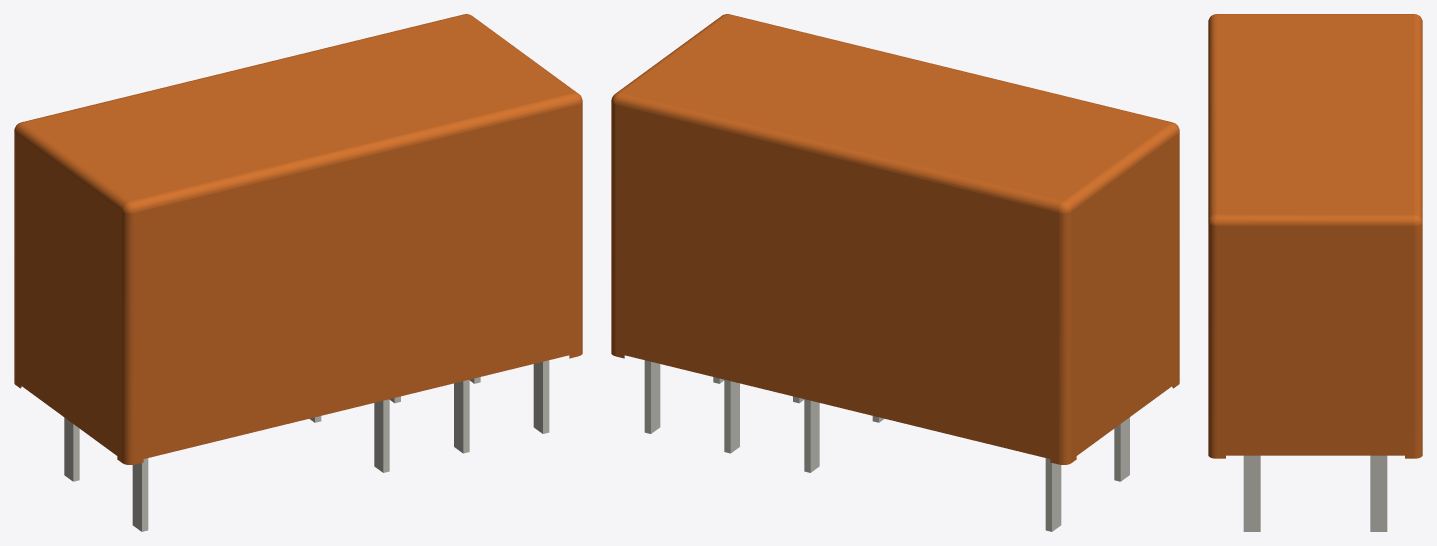
File: kc-relay_dpdt_schrack-rt2-formc_rm5mm.glb
3 renders of one model, left to right at view 1: azimuth 30°, elevation 25°; view 2: azimuth 150°, elevation 25°; view 3: azimuth 270°, elevation 25°, orthographic. The views are drawn at different scales.
Visible parts, largest first — view 1: 0.5833333333333334_0.16666666666666666_0_0, 0.6666666666666666_0.6666666666666666_0.5833333333333334_0.8; view 2: 0.5833333333333334_0.16666666666666666_0_0, 0.6666666666666666_0.6666666666666666_0.5833333333333334_0.8; view 3: 0.5833333333333334_0.16666666666666666_0_0, 0.6666666666666666_0.6666666666666666_0.5833333333333334_0.8.
Part boxes in pixels (x1=…): 0.5833333333333334_0.16666666666666666_0_0: x1=14, y1=14, x2=582, y2=464; 0.6666666666666666_0.6666666666666666_0.5833333333333334_0.8: x1=64, y1=360, x2=549, y2=531; 0.5833333333333334_0.16666666666666666_0_0: x1=611, y1=14, x2=1179, y2=464; 0.6666666666666666_0.6666666666666666_0.5833333333333334_0.8: x1=644, y1=360, x2=1129, y2=531; 0.5833333333333334_0.16666666666666666_0_0: x1=1208, y1=14, x2=1422, y2=458; 0.6666666666666666_0.6666666666666666_0.5833333333333334_0.8: x1=1243, y1=455, x2=1387, y2=531.
Size of the model in its own units: 2.9 by 2.1 by 1.27.
